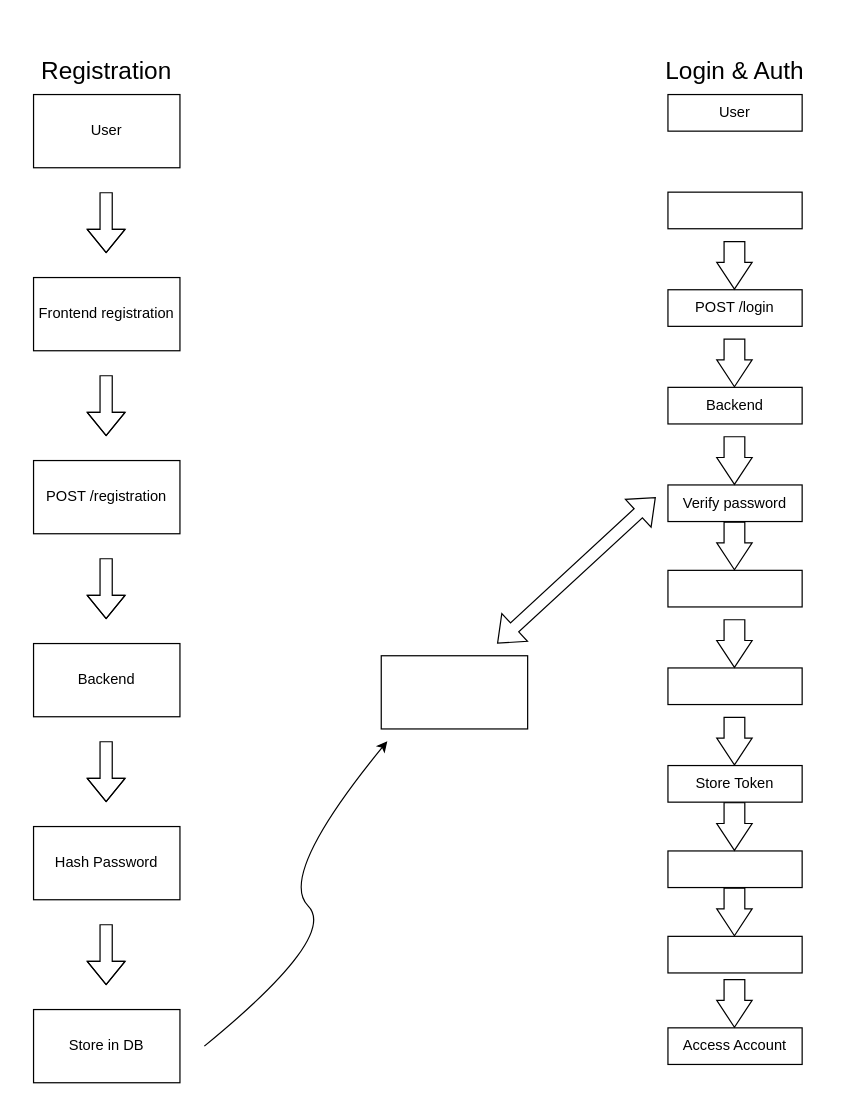
This 847x1104 diagram has some shape labels left out. The shapes that lost their labels are listed below. From the top down, each one's centre as x and y in pixels, then its label:
point 734,210: Frontend Login
point 734,588: Generate JWT
point 454,692: User Database
point 734,686: Return Token
point 734,869: Send Bearer Token
point 734,954: Verify JWT
